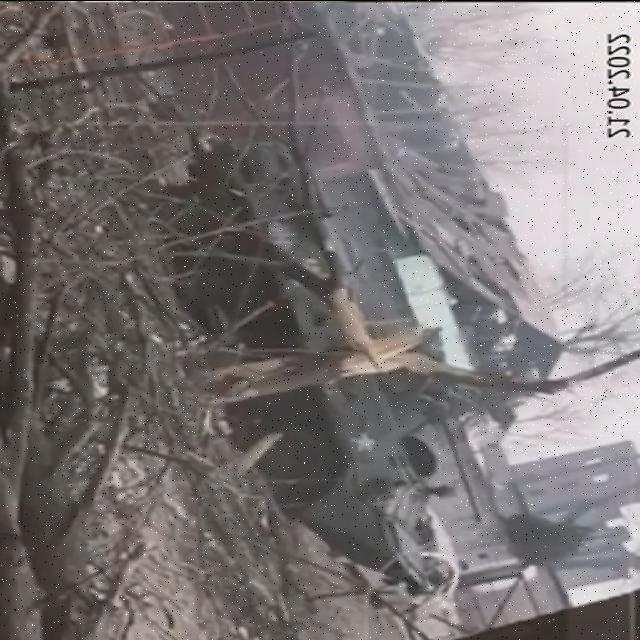APC-IFV: (134, 138, 494, 590)
